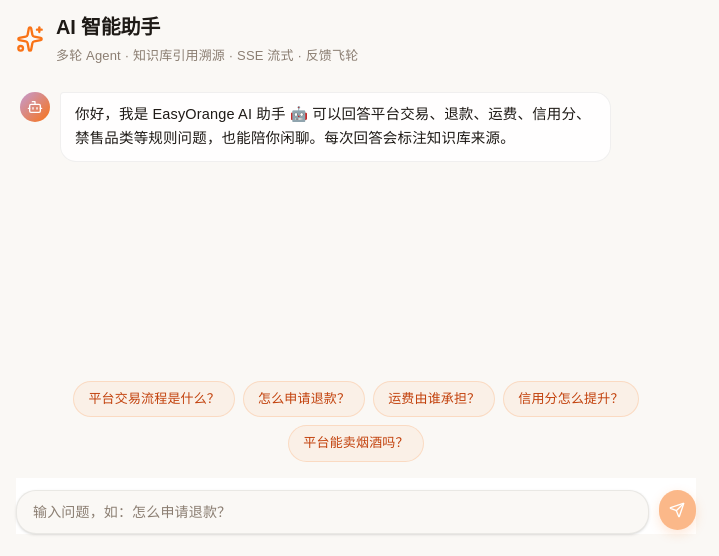
Test: PlaygroundPage (AI 智能助手) › 发送问题 -> 流式 token 逐字渲染 + 知识库来源 + done 收口
This screenshot has width=719, height=556.
Type "怎么退款？" into the field named "问题输入" at coordinates (332, 512), box [16,490,649,534]
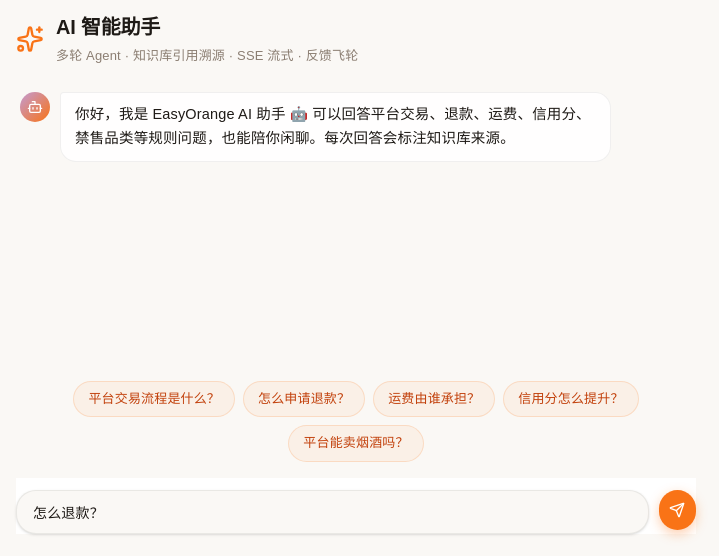
Click the button named "发送" at coordinates (677, 510), box [659,490,696,530]
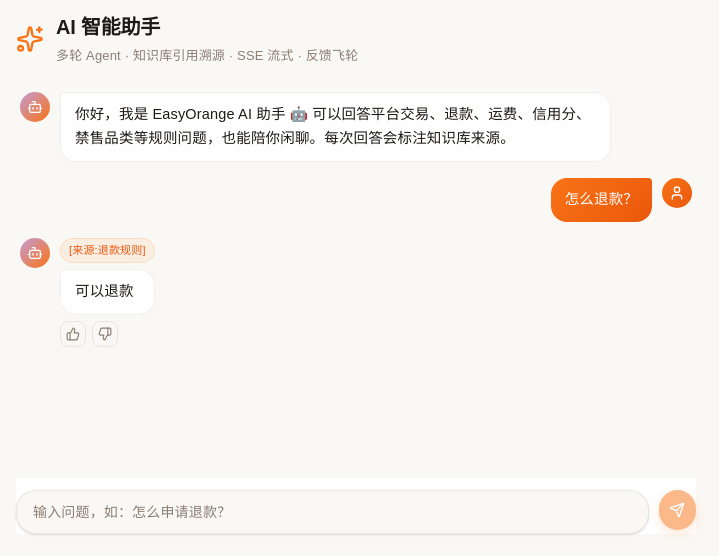
expect the text "可以退款" is shown: met, box [60,269,155,315]
expect the text "[来源:退款规则]" is shown: met, box [60,238,155,263]
